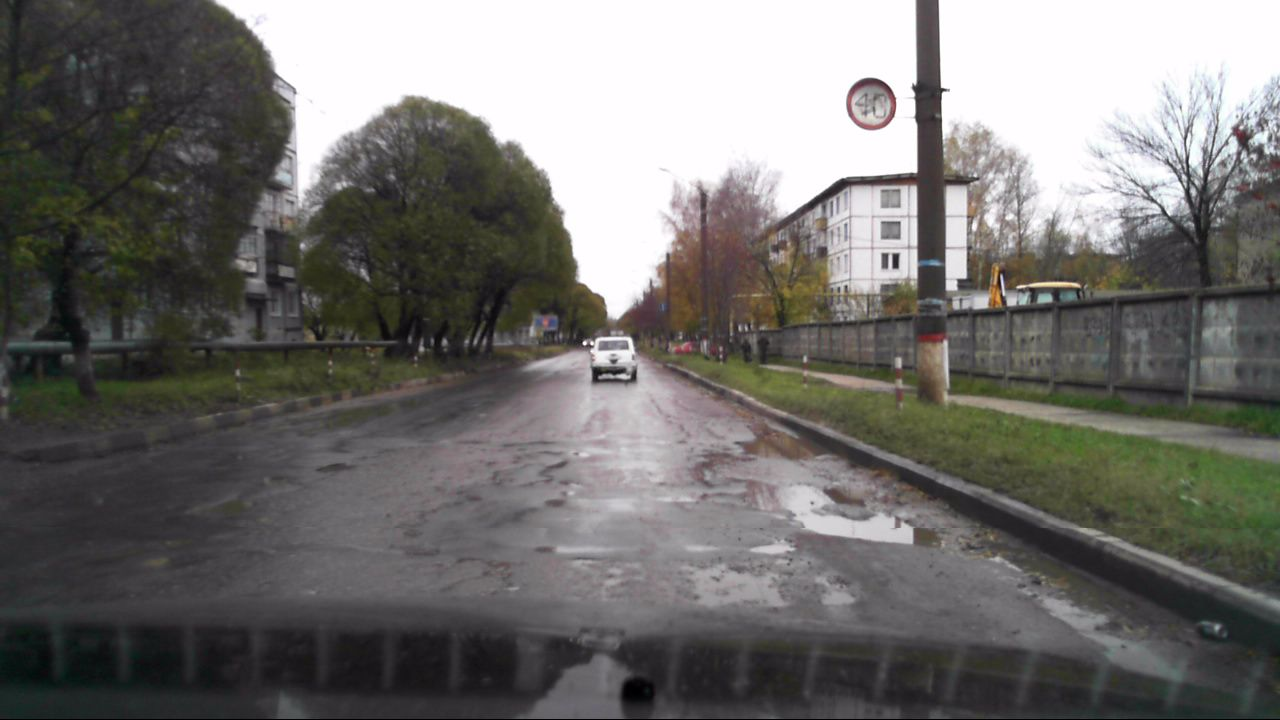speed_warning_40: (845, 78, 896, 132)
